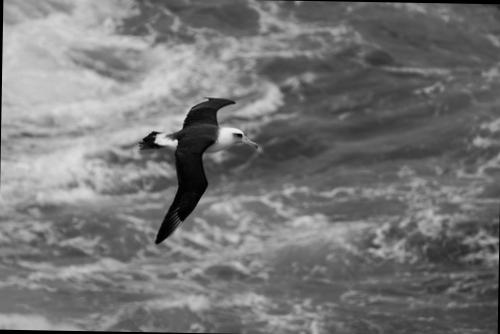bird: (132, 90, 262, 250)
